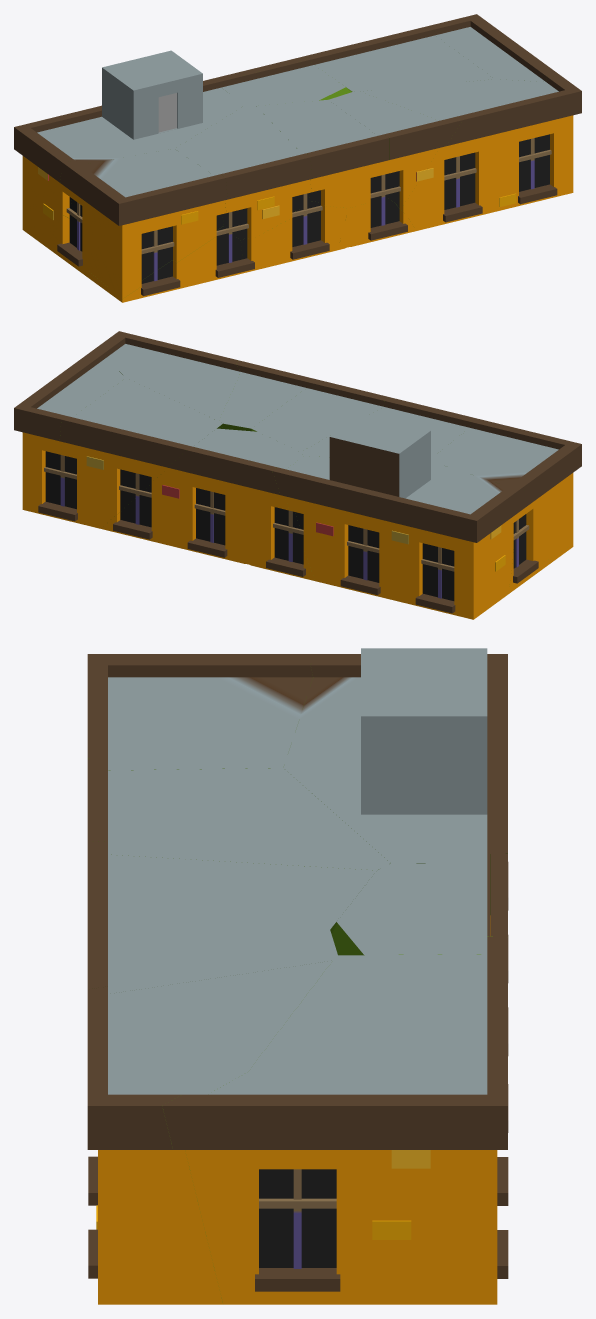
File: House_1_top_cell.fbx
3 renders of one model, top to bottom at view 1: azimuth 30°, elevation 25°; view 2: azimuth 150°, elevation 25°; view 3: azimuth 270°, elevation 25°, orthographic. The views are drawn at different scales.
Visible parts, largest first — view 1: top1_cell.003, top1_cell.010, top1_cell.013, top1_cell.006, top1_cell.011, top1_cell.008, top1_cell.002, top1_cell.004, top1_cell.001, top1_cell.005, top1_cell.012, top1_cell (+9 smaller); view 2: top1_cell.010, top1_cell.008, top1_cell.013, top1_cell.009, top1_cell.004, top1_cell.003, top1_cell.001, top1_cell.011, top1_cell.002, top1_cell.006, polySurface174, polySurface186 (+6 smaller); view 3: top1_cell.004, top1_cell.003, top1_cell.010, top1_cell.008, top1_cell.013, top1_cell.006, top1_cell.011, top1_cell.001, top1_cell.002, polySurface72, top1_cell.009, polySurface74 (+1 smaller).
Boxes of the visible parts, <box> form: top1_cell.003: <box>360,76,581,230</box>; top1_cell.010: <box>14,50,244,253</box>; top1_cell.013: <box>59,148,227,299</box>; top1_cell.006: <box>175,105,312,240</box>; top1_cell.011: <box>256,99,388,208</box>; top1_cell.008: <box>304,25,494,91</box>; top1_cell.002: <box>329,91,462,204</box>; top1_cell.004: <box>430,14,562,81</box>; top1_cell.001: <box>221,59,351,105</box>; top1_cell.005: <box>56,226,246,302</box>; top1_cell.012: <box>241,207,308,272</box>; top1_cell: <box>338,196,416,249</box>; top1_cell.010: <box>272,414,525,619</box>; top1_cell.008: <box>56,378,222,528</box>; top1_cell.013: <box>431,418,581,582</box>; top1_cell.009: <box>101,447,314,580</box>; top1_cell.004: <box>14,345,125,517</box>; top1_cell.003: <box>100,331,240,428</box>; top1_cell.001: <box>118,428,303,564</box>; top1_cell.011: <box>251,378,389,451</box>; top1_cell.002: <box>219,360,311,431</box>; top1_cell.006: <box>300,397,474,458</box>; polySurface174: <box>415,594,455,613</box>; polySurface186: <box>340,575,380,595</box>; top1_cell.004: <box>162,1059,507,1304</box>; top1_cell.003: <box>87,960,332,1304</box>; top1_cell.010: <box>283,648,507,936</box>; top1_cell.008: <box>248,936,507,1071</box>; top1_cell.013: <box>87,654,314,770</box>; top1_cell.006: <box>87,758,390,870</box>; top1_cell.011: <box>87,841,376,932</box>; top1_cell.001: <box>331,854,489,955</box>; top1_cell.002: <box>87,917,337,993</box>; polySurface72: <box>255,1268,340,1291</box>; top1_cell.009: <box>490,854,507,936</box>; polySurface74: <box>259,1198,336,1208</box>.
Bounding box in the file's own units: 2812 × 857 × 1107.
